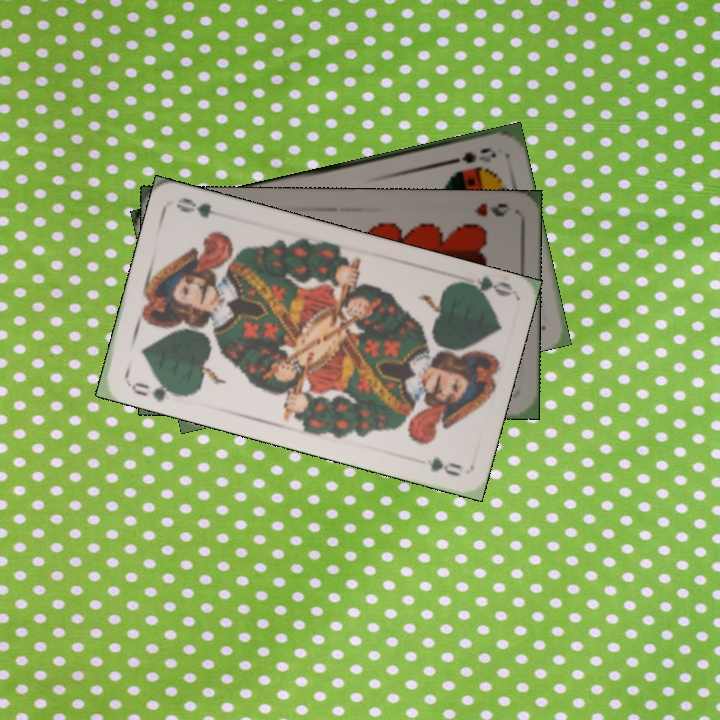GO: (452, 272, 513, 302), (124, 376, 183, 405)
H9: (471, 199, 513, 219)
SO: (442, 143, 499, 167)
